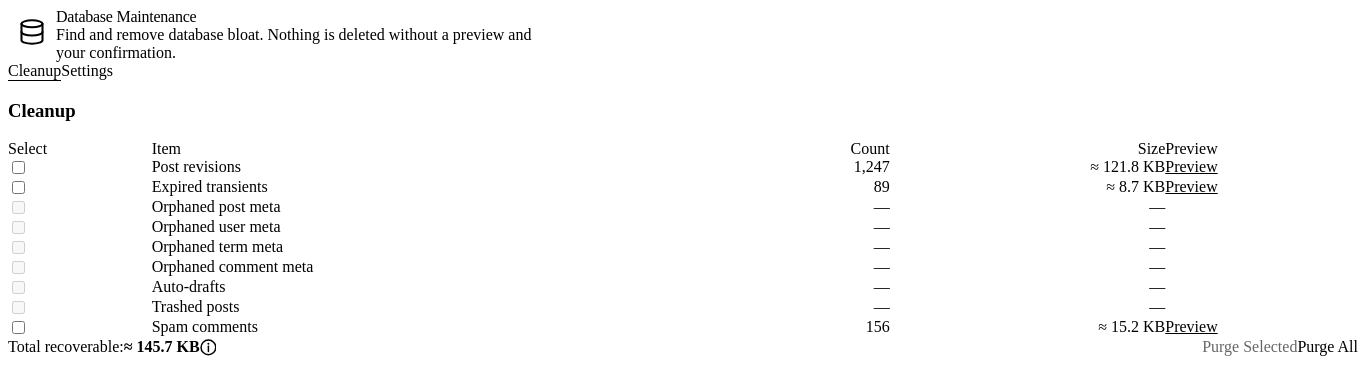
Scenario: CleanupView › Purge Selected is disabled until a row is checked
Expected: the button "Purge Selected" is disabled, [1202,338,1297,356]
Click the checkbox labelled "Spam comments". click: (18, 328)
box: [12,321,25,334]
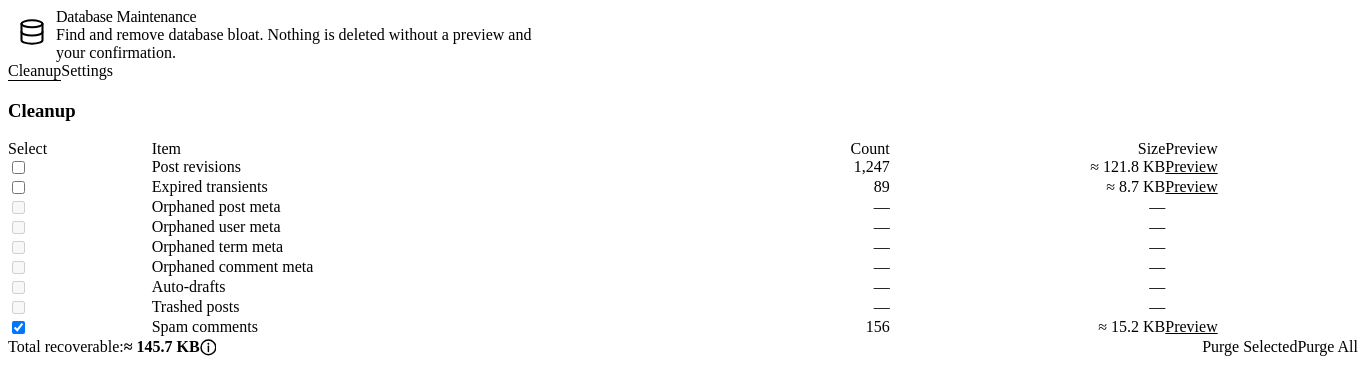
Result: the button "Purge Selected" is enabled at [1202,338,1297,356]
